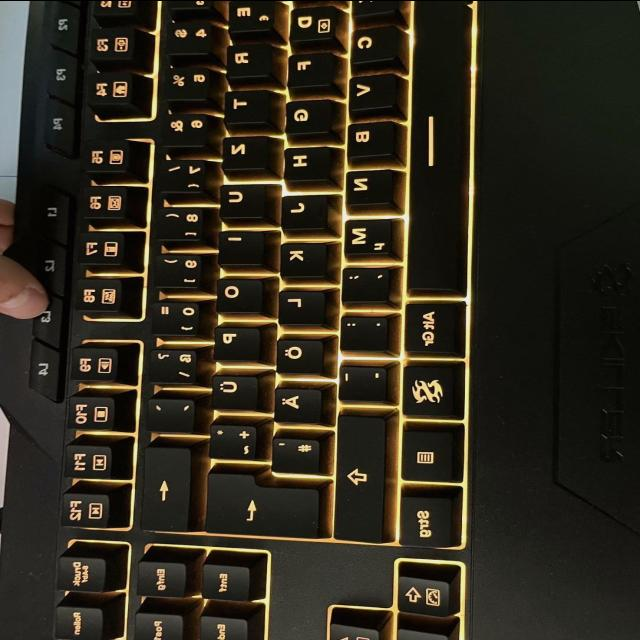0: (147, 296, 204, 334)
3: (159, 0, 219, 10)
4: (158, 15, 216, 53)
5: (156, 62, 216, 98)
6: (157, 108, 213, 146)
7: (151, 153, 213, 191)
8: (146, 200, 216, 240)
9: (144, 248, 212, 286)
accent: (141, 394, 195, 431)
ae: (269, 384, 321, 422)
alt-left: (408, 0, 473, 4)
altgr-right: (398, 297, 464, 355)
b: (341, 117, 393, 156)
c: (347, 21, 397, 62)
comma: (336, 263, 389, 301)
d: (286, 2, 336, 40)
del: (135, 441, 191, 531)
e: (225, 0, 273, 30)
enter: (200, 466, 321, 538)
f: (283, 49, 333, 85)
g: (280, 96, 332, 132)
h: (279, 143, 331, 179)
hash: (266, 433, 320, 473)
i: (214, 227, 264, 263)
j: (276, 190, 328, 228)
k: (275, 239, 325, 276)
keyboard: (27, 0, 508, 640)
l: (274, 286, 324, 324)
m: (339, 215, 393, 255)
minus: (333, 361, 386, 401)
n: (340, 166, 392, 204)
o: (212, 274, 262, 312)
oe: (272, 334, 322, 373)
p: (210, 322, 260, 360)
plus: (204, 420, 258, 458)
point: (334, 311, 387, 351)
r: (223, 39, 271, 77)
s: (287, 0, 337, 7)
shift-right: (330, 407, 384, 543)
space: (404, 0, 468, 295)
ss: (143, 343, 201, 382)
strg-right: (393, 491, 457, 547)
t: (221, 87, 269, 122)
u: (215, 180, 267, 218)
ue: (206, 371, 258, 409)
v: (343, 70, 395, 110)
w: (227, 0, 275, 3)
x: (347, 0, 397, 15)
z: (217, 132, 270, 169)
